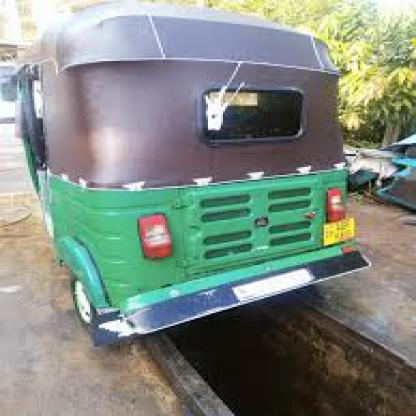tuk: (11, 3, 371, 344)
